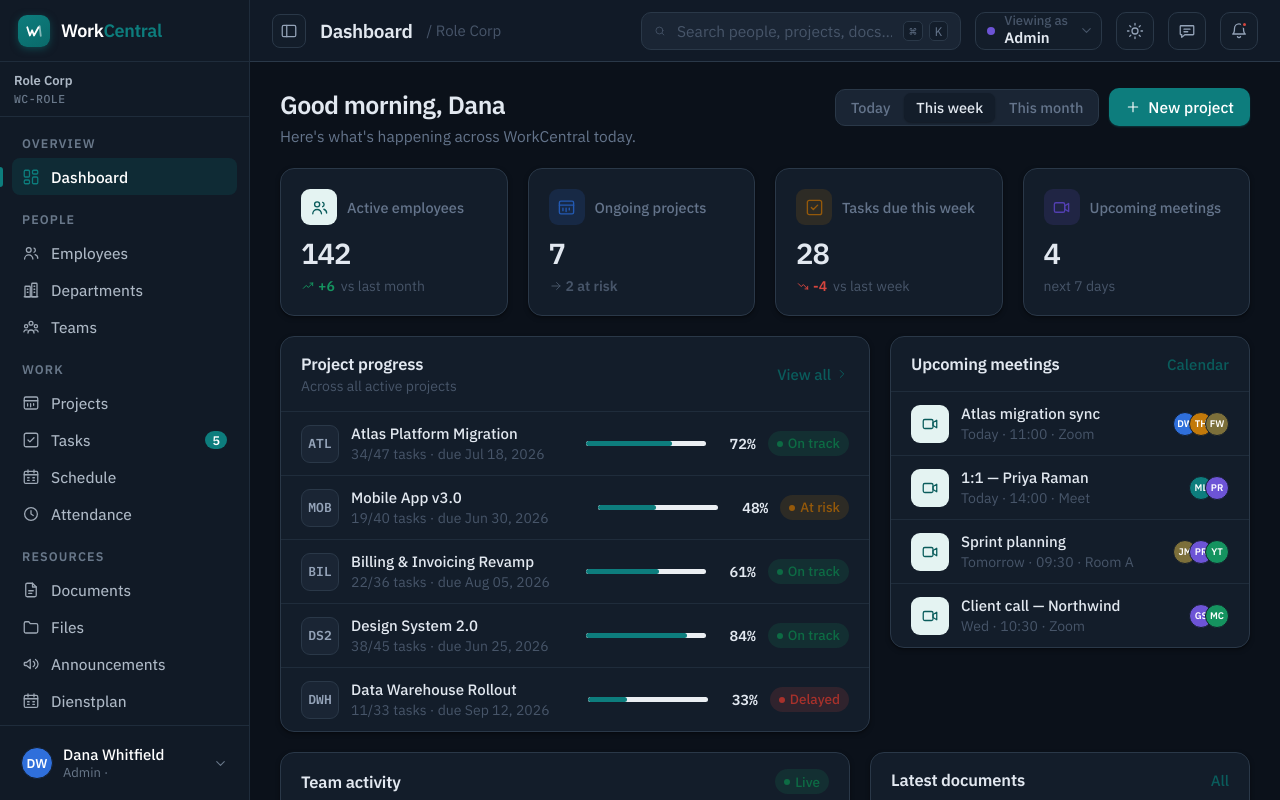
LockedPage › shows the page label in the locked message
Click the element with class "role-switch". click: [1039, 30]
box: [975,12,1102,50]
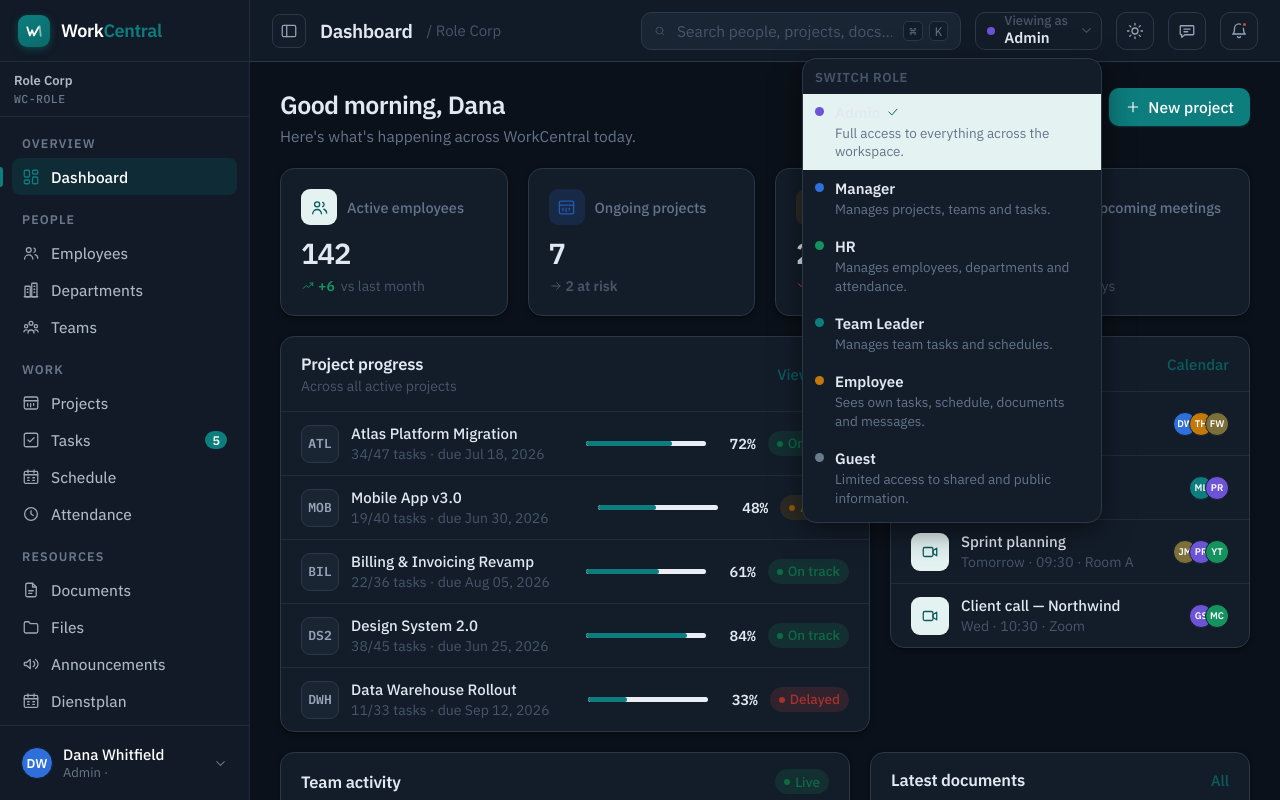
Click the text "Employee". click: [869, 381]
box: [835,372,904,391]
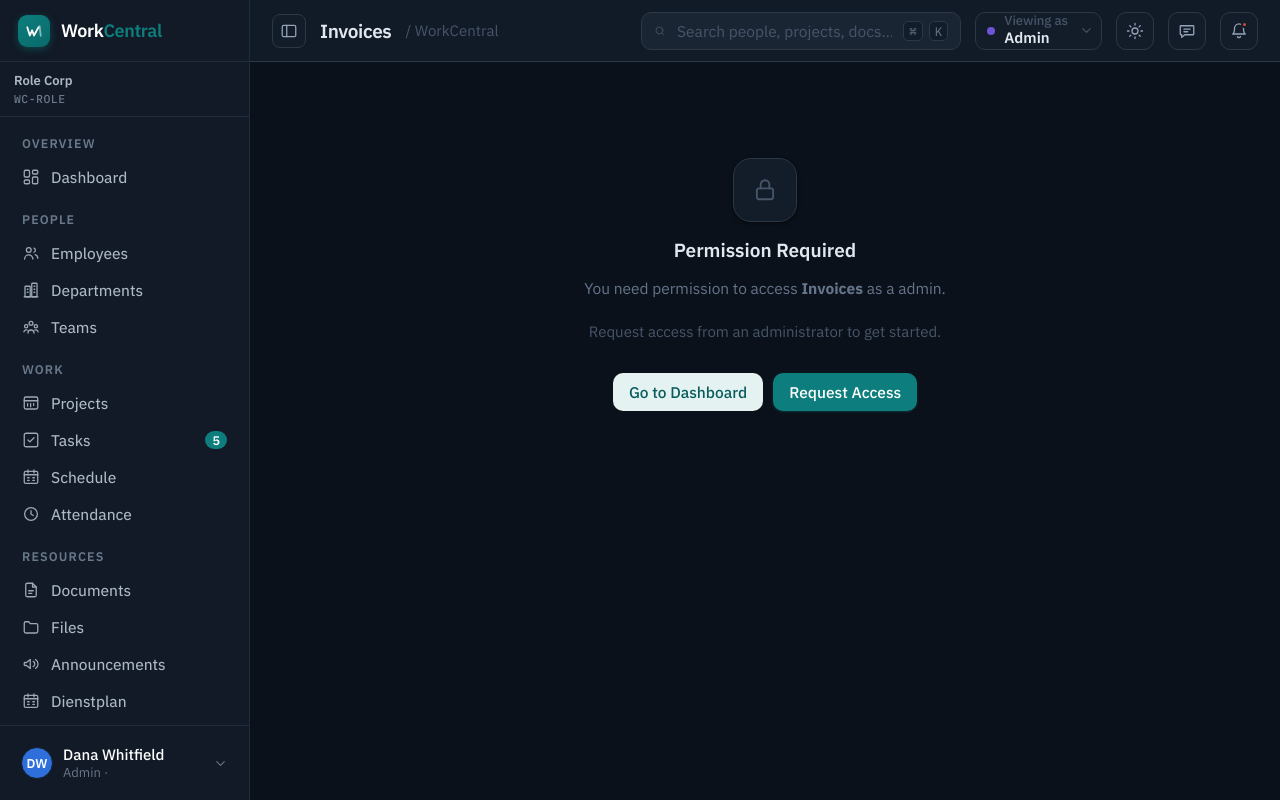
Check: the text "Invoices" next to "You need permission to access" is shown, box [801,278,863,298]
